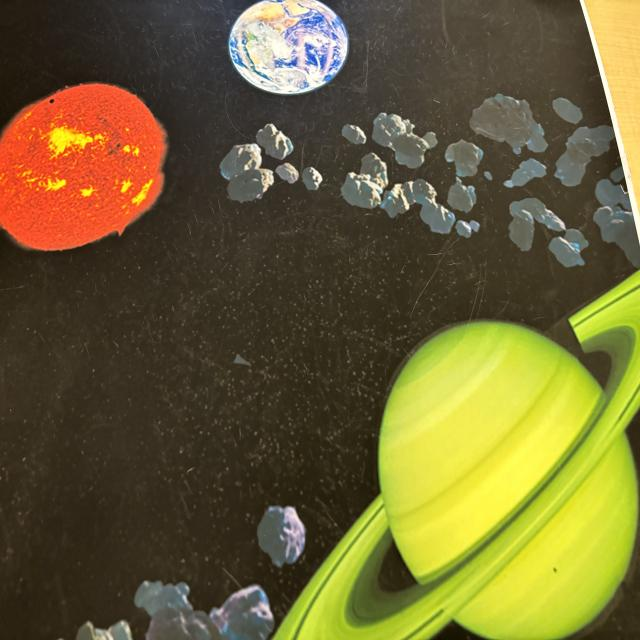Asteroids: (227, 104, 638, 252), (89, 508, 302, 640)
Earth: (227, 2, 353, 95)
Saturn: (303, 263, 640, 640)
Sun: (0, 75, 163, 247)
